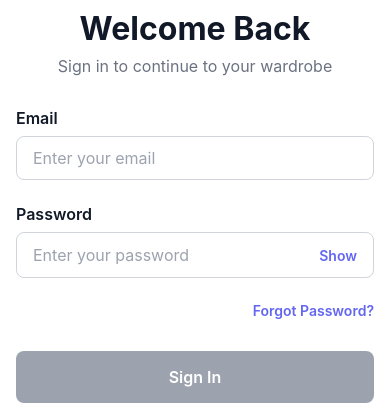
Test: LoginForm › Password visibility toggle › toggles password visibility when show/hide button is pressed
The image size is (390, 420).
// Press show button
Click the text "Show". click: (338, 255)
box: [319, 246, 357, 264]
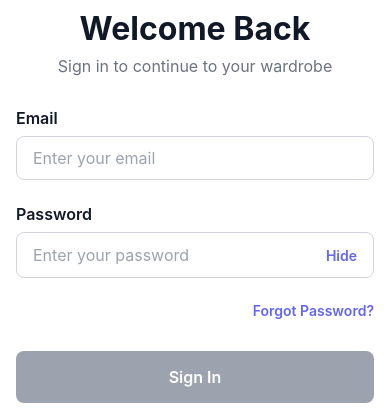
Check: the text "Hide" is shown
// Press hide button
Click the text "Hide". click: (341, 255)
box: [326, 246, 357, 264]
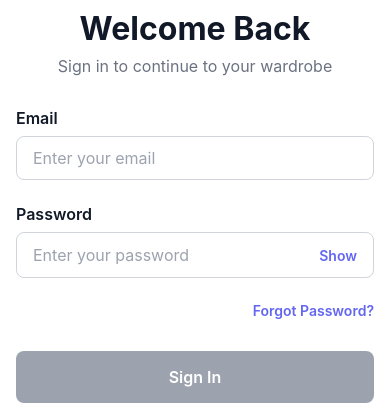
Check: the text "Show" is shown, box [319, 246, 357, 264]
